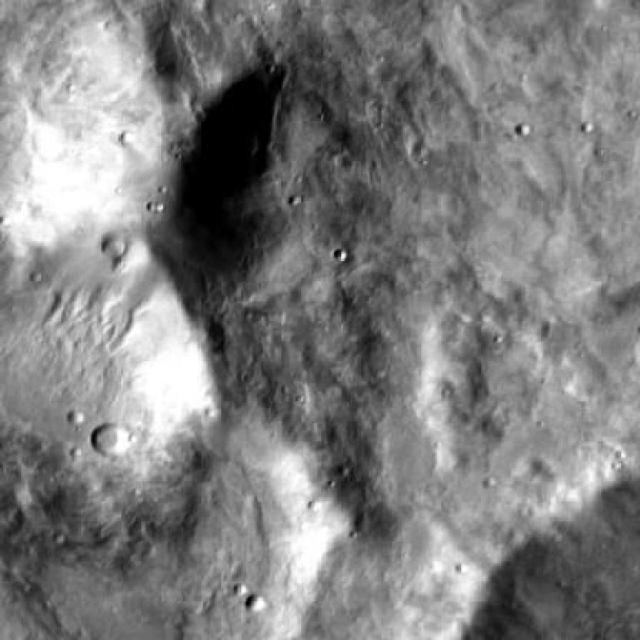crater: (0, 400, 343, 640), (0, 250, 229, 524), (100, 430, 132, 458), (102, 234, 126, 254), (247, 594, 267, 612)
